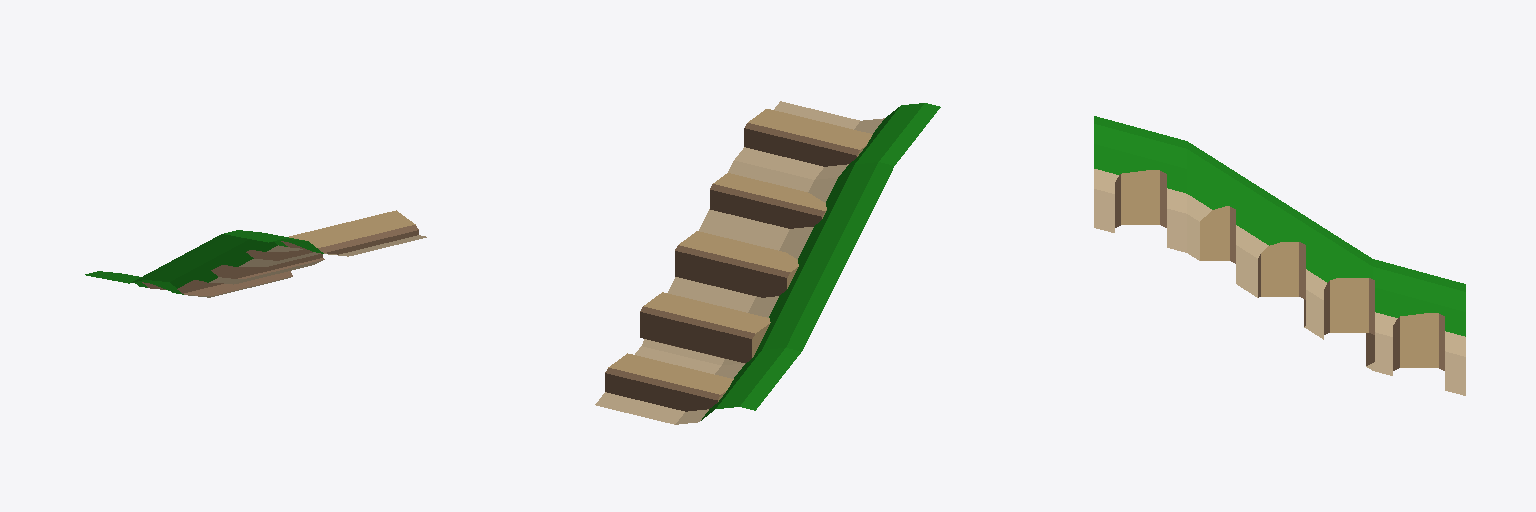
The model's file is Hilly_Terrain_Path_Hill_Sharp_Steps_Side.obj.
The picture shows the model from 3 angles: view 1: azimuth 30°, elevation 25°; view 2: azimuth 150°, elevation 25°; view 3: azimuth 270°, elevation 25°; orthographic projection.
Parts seen in each view (by area): view 1: object1; view 2: object1; view 3: object1.
Part boxes in pixels (left/top/right/bottom): object1: left=85, top=210, right=426, bottom=297; object1: left=595, top=101, right=940, bottom=424; object1: left=1094, top=116, right=1465, bottom=395.
Size of the model in its own units: 1 by 1.2 by 2.